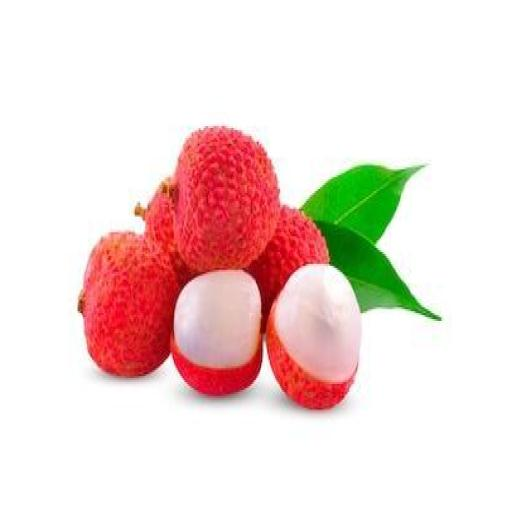lychee: (172, 128, 278, 271), (78, 233, 178, 376), (266, 264, 359, 409), (170, 270, 261, 395), (247, 207, 328, 326), (134, 178, 193, 285)
